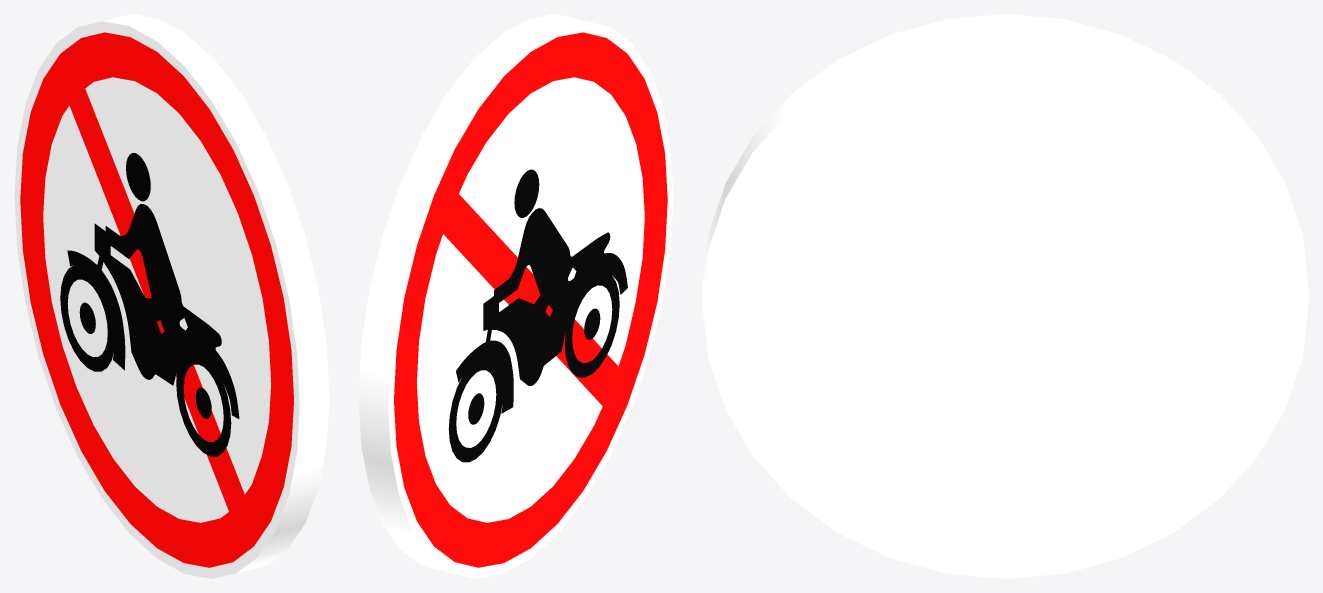
The model's file is No_Motorcycle_Entry.glb.
3 renders of one model, left to right at view 1: azimuth 30°, elevation 25°; view 2: azimuth 150°, elevation 25°; view 3: azimuth 270°, elevation 25°, orthographic. The views are drawn at different scales.
Parts seen in each view (by area): view 1: No_Motorcycle_Entry; view 2: No_Motorcycle_Entry; view 3: No_Motorcycle_Entry.
Boxes of the visible parts, bbox=[...] form: No_Motorcycle_Entry: bbox=[14, 14, 329, 578]; No_Motorcycle_Entry: bbox=[358, 14, 673, 578]; No_Motorcycle_Entry: bbox=[702, 14, 1308, 578].
Bounding box in the file's own units: 0.075 × 1 × 1.
